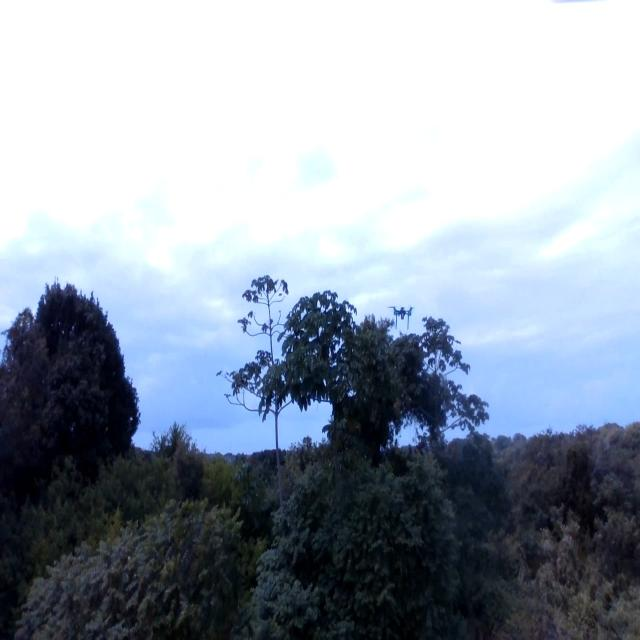-uav-: (378, 283, 421, 338)
